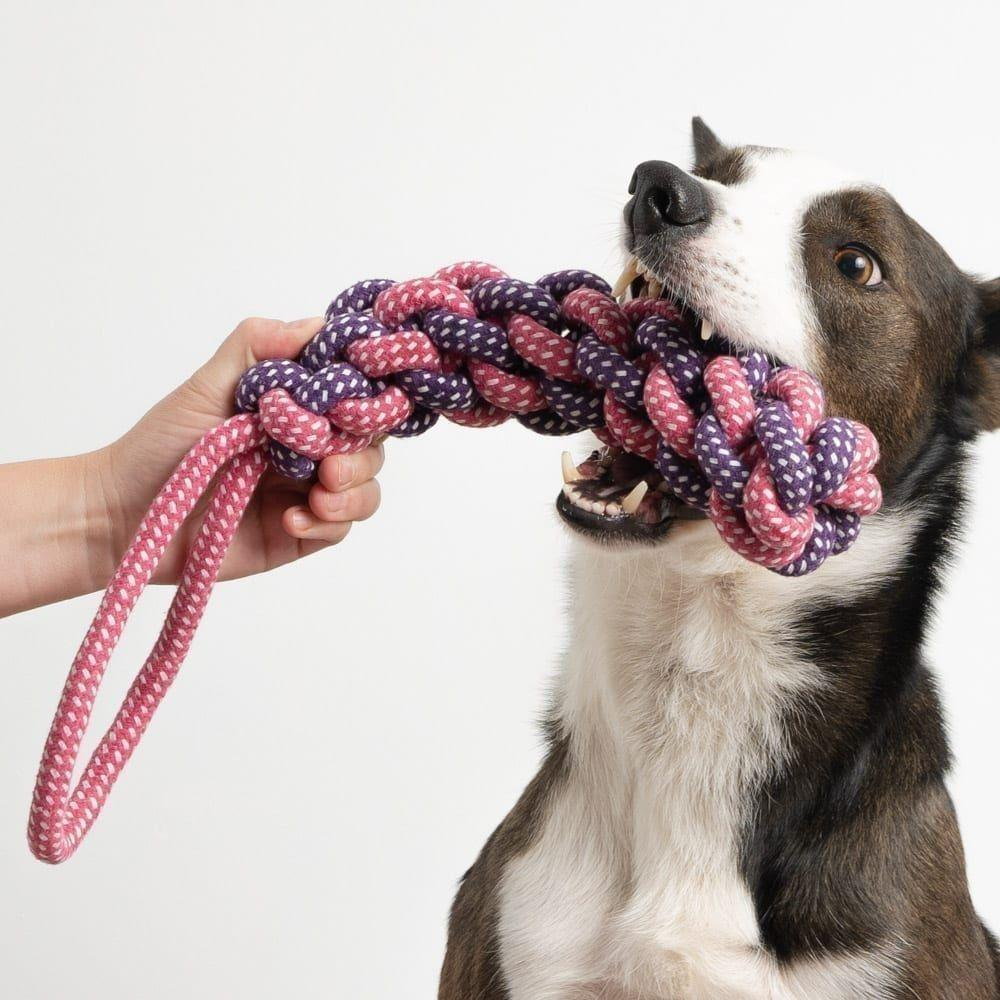adult_dog: (435, 109, 1000, 1000)
non-dog: (1, 310, 384, 620)
